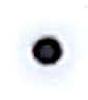cancer: (11, 18, 78, 80)
